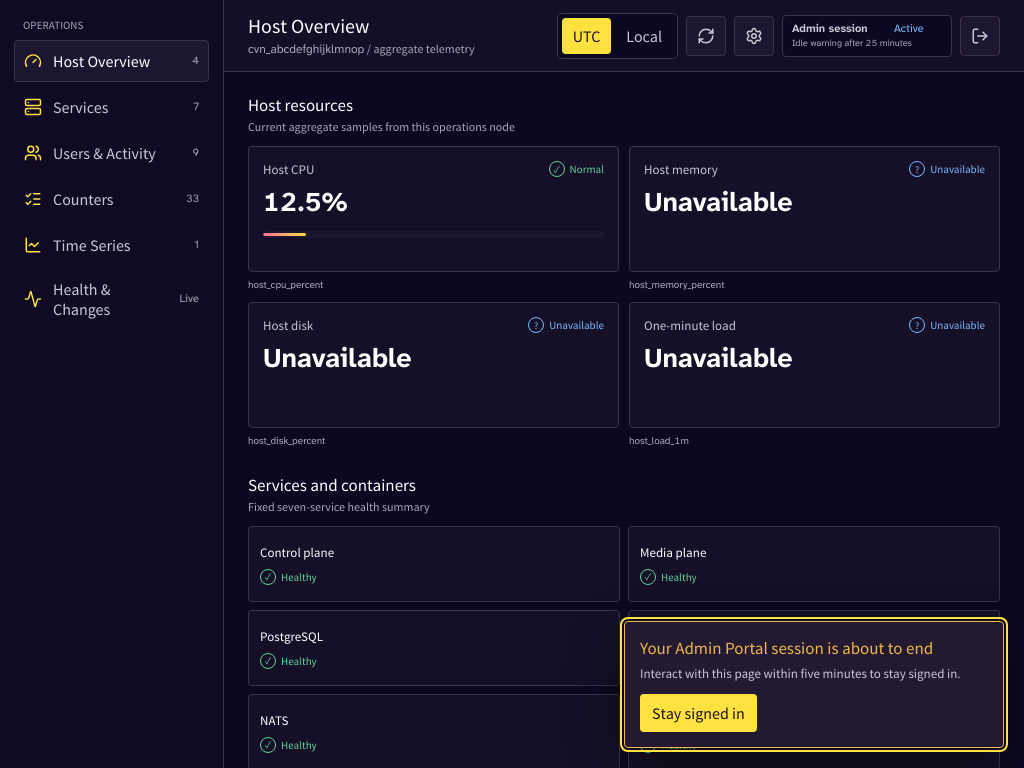
Test: Portal › warns at 25 minutes and interaction dismisses the accessible warning
Expected: the dialog shows "Your Admin Portal session is about to end", x1=640 y1=637 x2=933 y2=659
Click the button "Stay signed in": x=698, y=713 x1=640 y1=694 x2=757 y2=732
Wait 360000 ms
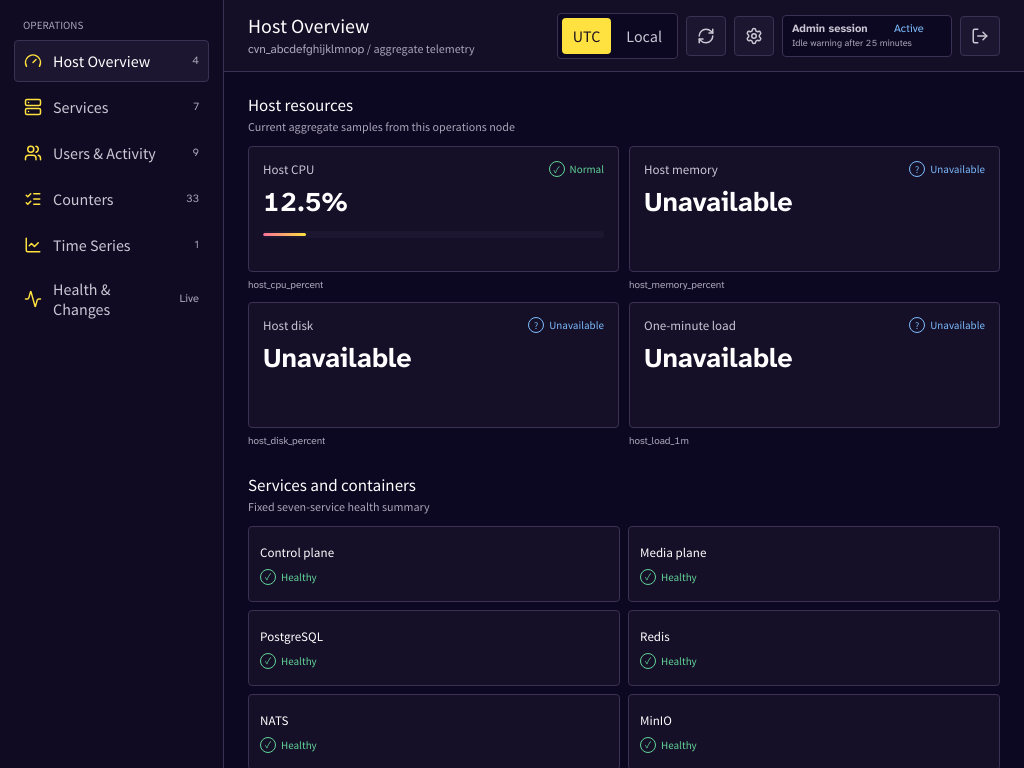
Result: the dialog is gone
